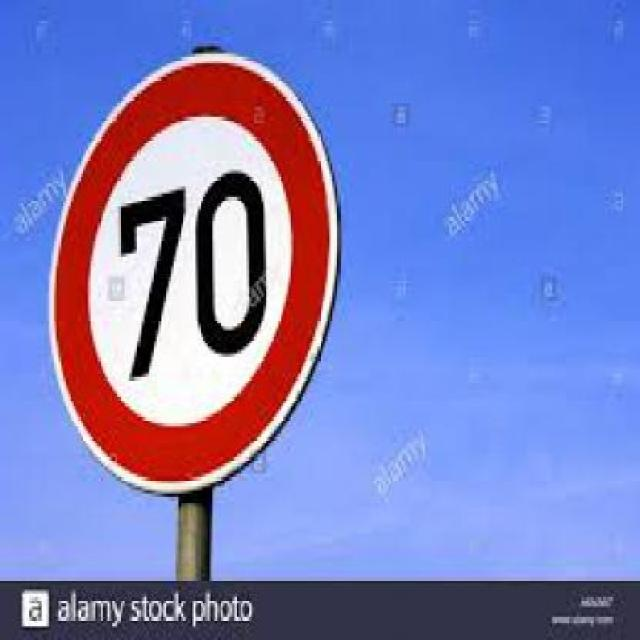forb_speed_over_70: (51, 56, 337, 504)
